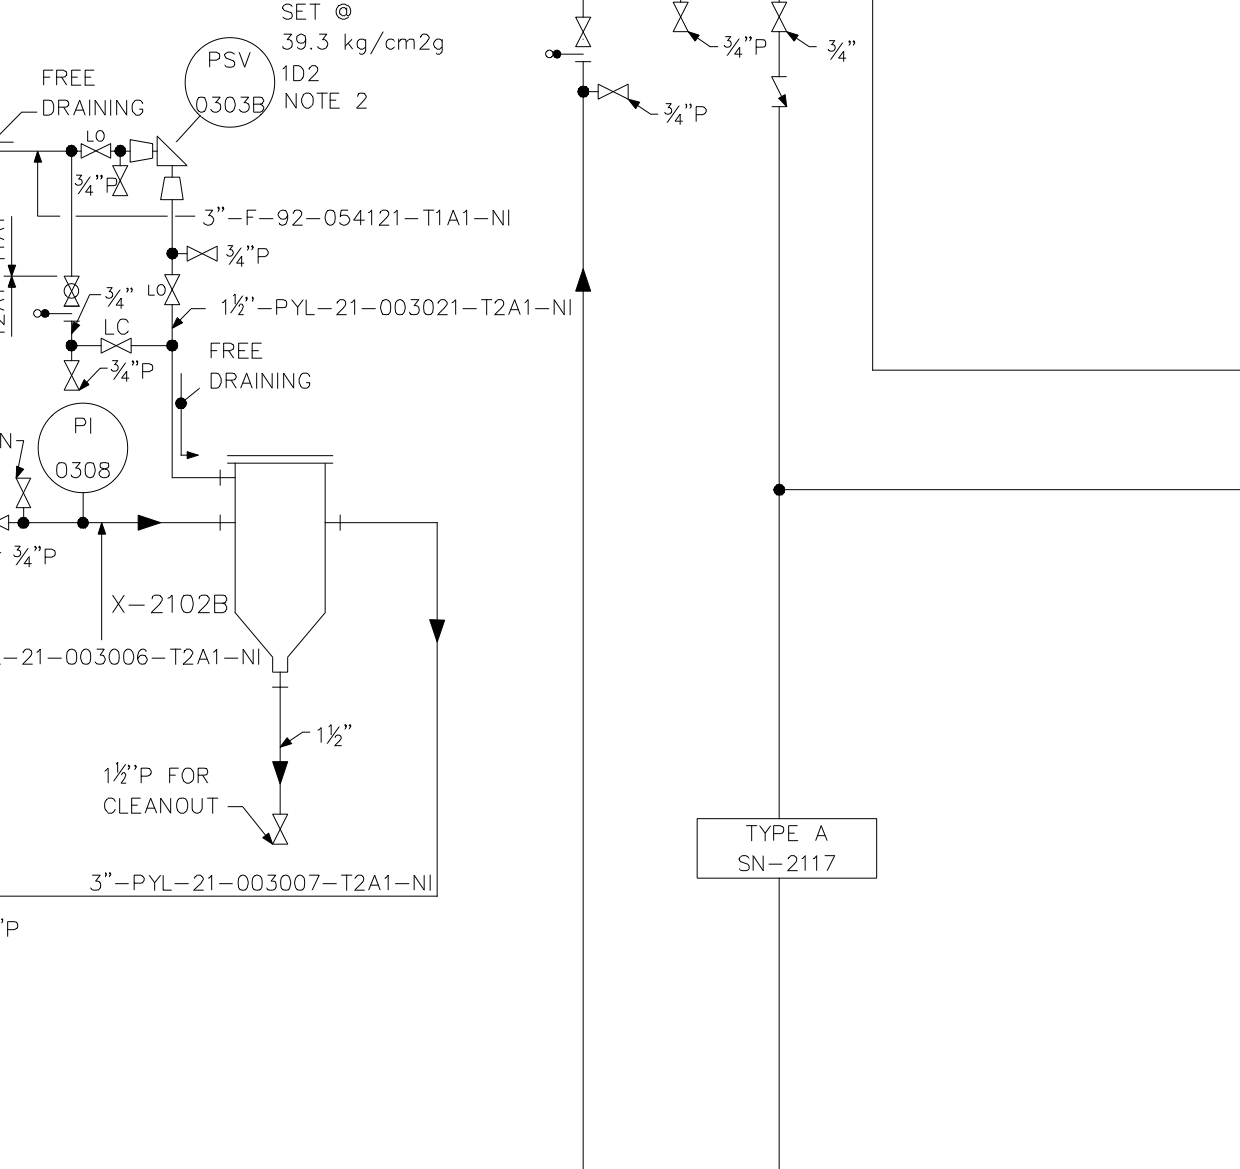Ball Valve: (60, 271, 83, 308)
Check Valve: (768, 68, 795, 111)
Intrument Tag: (182, 33, 280, 133), (35, 400, 133, 496)
Line Number: (217, 290, 580, 322), (202, 201, 517, 232), (87, 866, 433, 893), (1, 645, 264, 667)
PSV: (155, 132, 192, 170)
Reducer: (157, 172, 189, 203)
Spetacle Blind: (540, 41, 597, 65), (30, 304, 86, 322)
